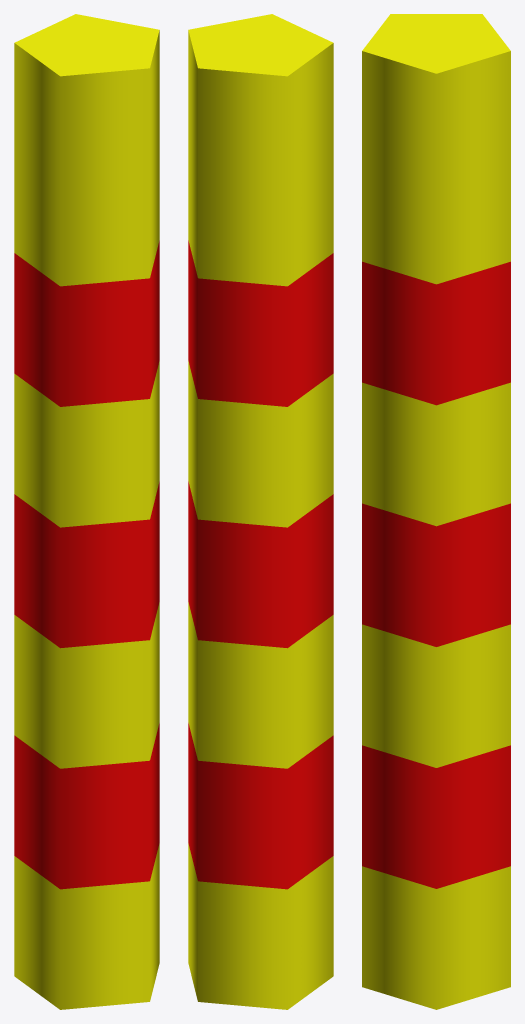
File: pilar3.FBX
3 views of the same model, side by side, from view 1: azimuth 30°, elevation 25°; view 2: azimuth 150°, elevation 25°; view 3: azimuth 270°, elevation 25° (orthographic).
Parts seen in each view (by area): view 1: Cylinder001; view 2: Cylinder001; view 3: Cylinder001.
Part boxes in pixels (<box>): Cylinder001: <box>14,14,159,1009</box>; Cylinder001: <box>188,14,333,1009</box>; Cylinder001: <box>362,14,510,1009</box>.
Bounding box in the file's own units: 4.52 × 33 × 4.76.
